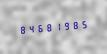eight: (44, 20, 52, 34), (17, 23, 25, 36), (71, 18, 79, 31)
five: (80, 17, 88, 30)
four: (26, 22, 34, 35)
nine: (62, 19, 70, 32)
one: (53, 20, 61, 33)
six: (35, 21, 43, 34)
